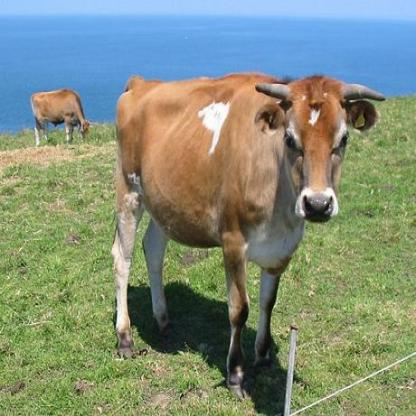cow: (113, 76, 381, 398), (31, 90, 91, 145)
